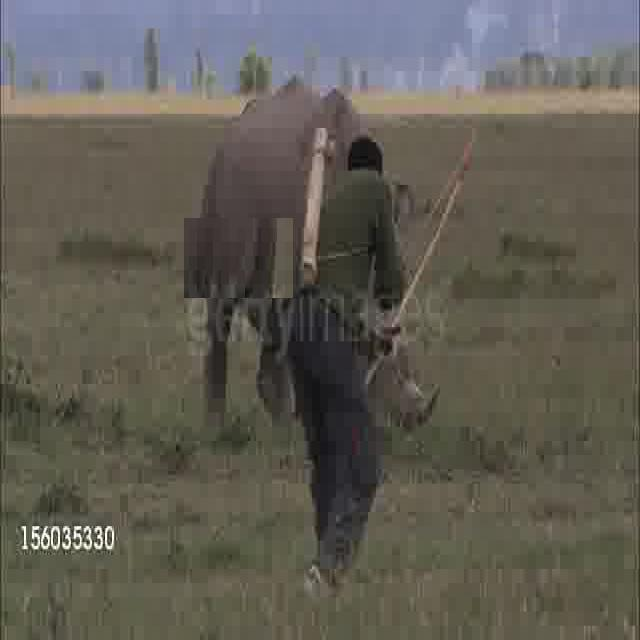poacher: (255, 204, 405, 584)
weapon: (184, 218, 293, 298)
